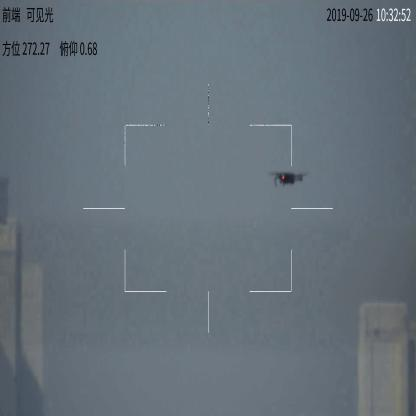uav: (268, 170, 306, 188)
